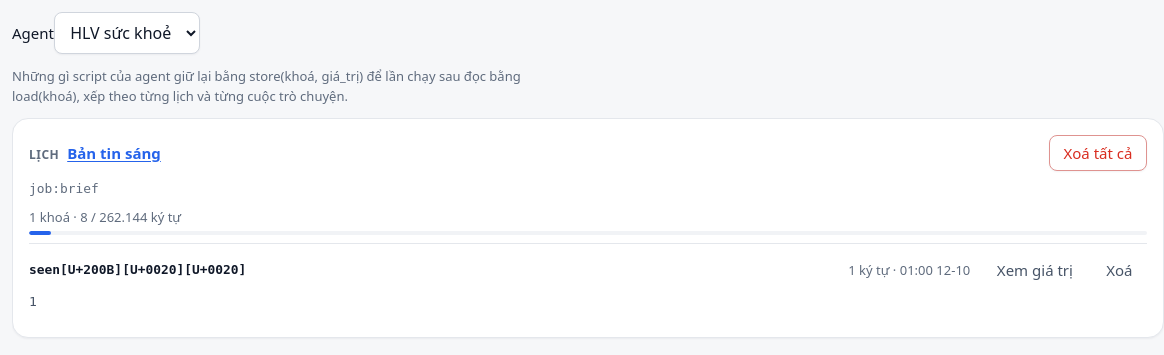
it: a key named in the delete question and in the line that follows › has the spaces it ends with and what nobody would see written out between its quotes
Click the button "Xoá" at (1119, 270), box [1092,252,1147,288]
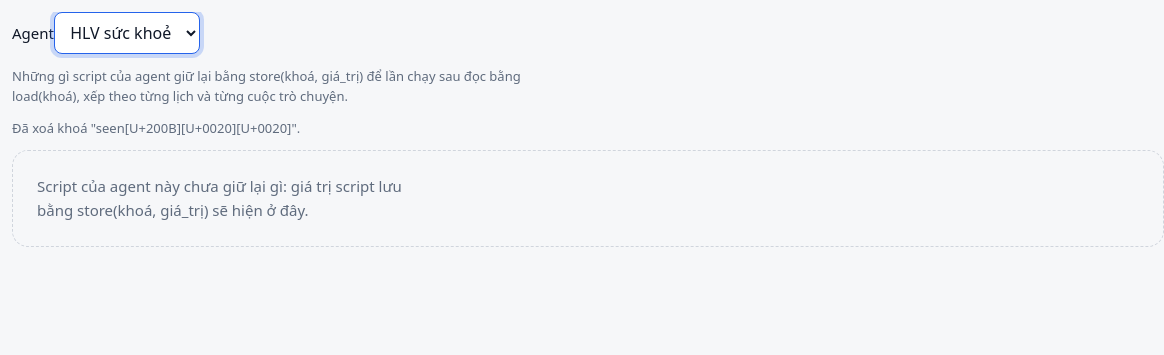
Expected: the message reads "Đã xoá khoá \"seen[U+200B][U+0020][U+0020]\".", [12,119,300,137]
